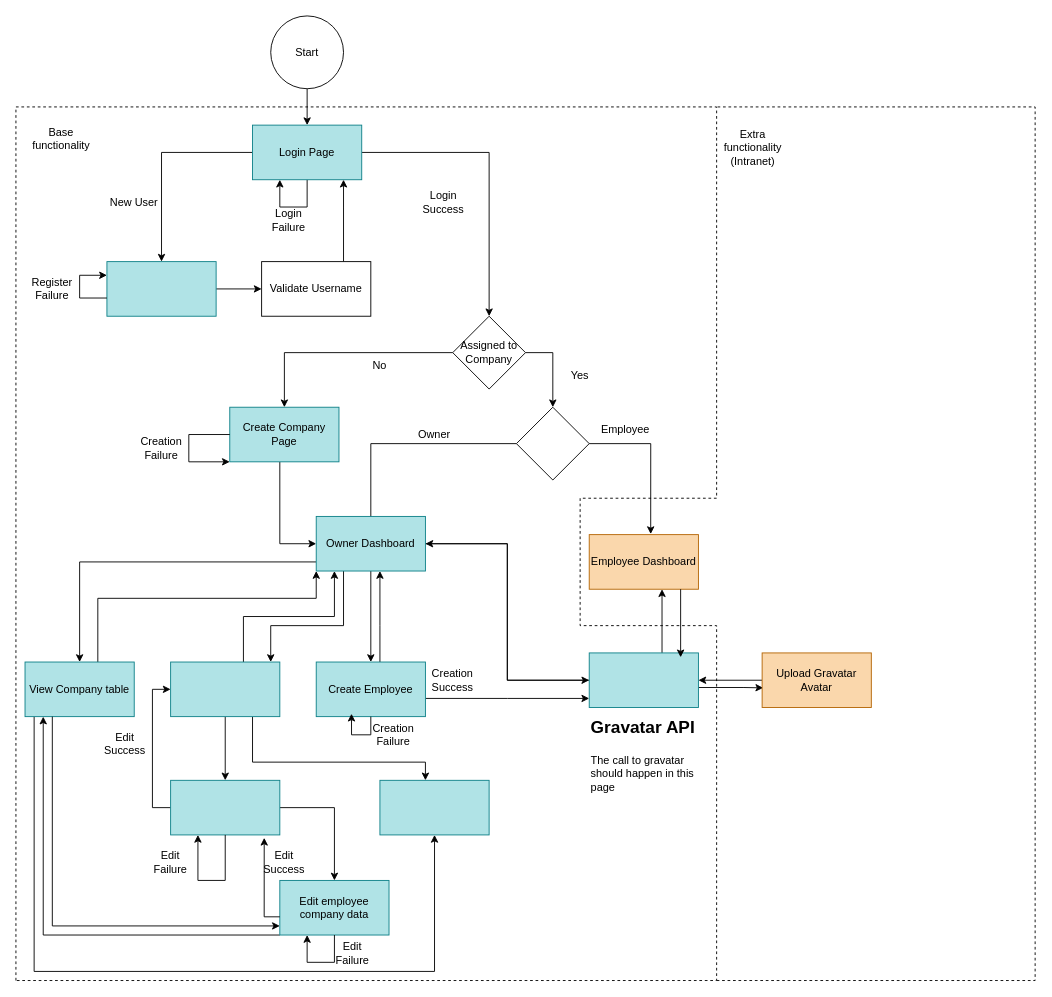
This 1052x997 diagram has some shape labels left out. The centre of each missing label's shape, as x and y in pixels:
Create/Edit roles: (x=434, y=807)
Edit Hierarchy: (x=225, y=807)
Edit own empl oyee information: (x=643, y=680)
Owner or Employee: (x=552, y=443)
Register Page: (x=161, y=288)
View Hierarchy: (x=225, y=689)
